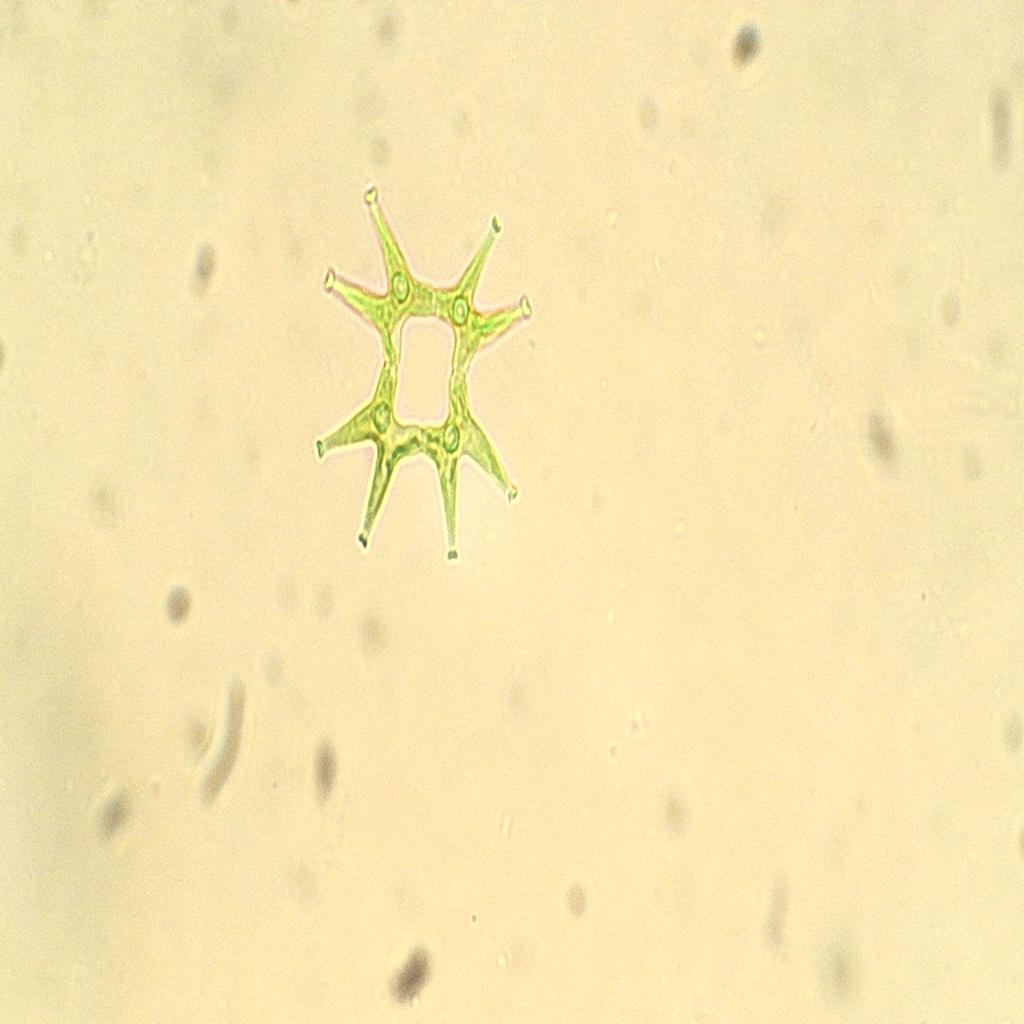Pediastrum_75O: (302, 162, 548, 583)
